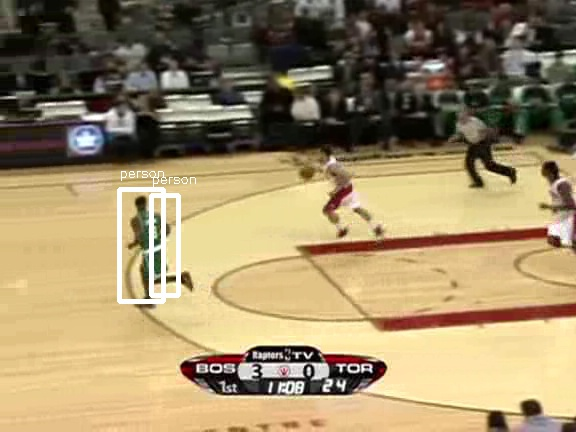person: (137, 205, 171, 286), (136, 205, 170, 286), (138, 205, 172, 286), (137, 204, 171, 285), (137, 206, 171, 287)
target_negative: (323, 9, 575, 114), (353, 67, 472, 279), (283, 128, 372, 286), (520, 78, 559, 430), (87, 11, 107, 172), (205, 268, 230, 342)
